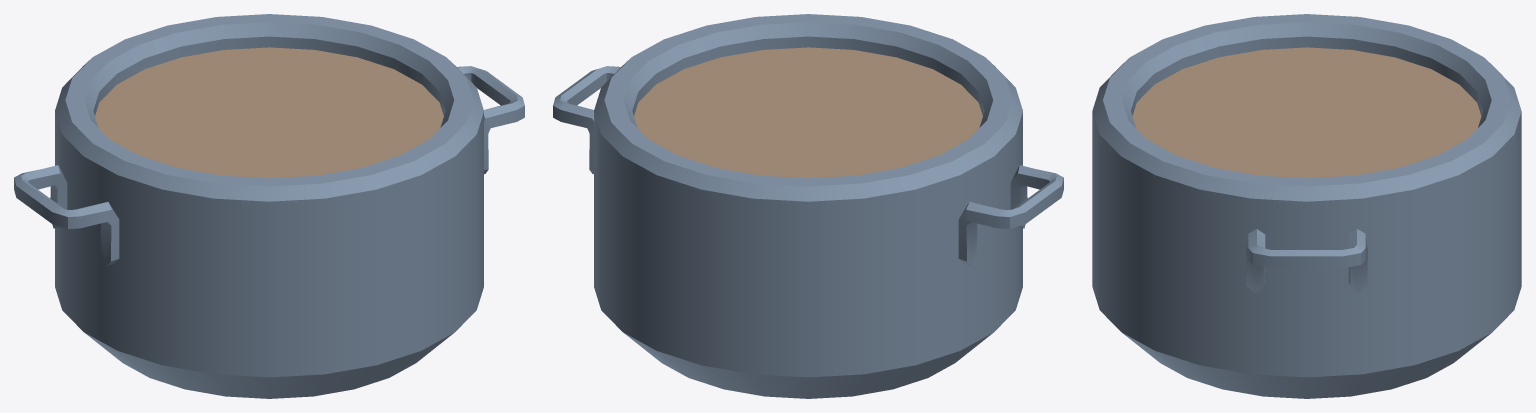
The model's file is Pot_1_Filled.fbx.
The picture shows the model from 3 angles, left to right: view 1: azimuth 30°, elevation 25°; view 2: azimuth 150°, elevation 25°; view 3: azimuth 270°, elevation 25°; orthographic projection.
Parts seen in each view (by area): view 1: Pot_1_Filled; view 2: Pot_1_Filled; view 3: Pot_1_Filled.
Boxes of the visible parts, x1,y1,x2,y2 form: Pot_1_Filled: [14, 14, 524, 398]; Pot_1_Filled: [553, 14, 1063, 398]; Pot_1_Filled: [1092, 14, 1521, 398].
Bounding box in the file's own units: 158 × 73.1 × 125.
